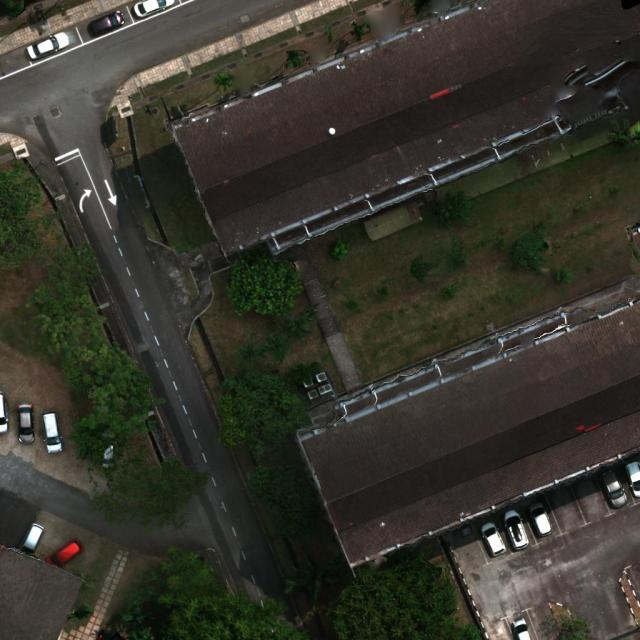Tree: (118, 544, 313, 640), (326, 546, 485, 640), (68, 432, 211, 533), (60, 341, 166, 438), (216, 369, 313, 459), (0, 160, 64, 270), (245, 459, 318, 543), (26, 283, 108, 355), (226, 246, 305, 317), (40, 242, 109, 296), (280, 565, 346, 607), (541, 603, 595, 640), (508, 231, 551, 273), (434, 190, 478, 230), (610, 117, 640, 149), (259, 334, 290, 364), (407, 254, 438, 283), (288, 361, 323, 385), (283, 314, 313, 342), (238, 342, 266, 369), (449, 235, 469, 268), (328, 238, 354, 261), (283, 50, 308, 70), (212, 72, 235, 93), (441, 281, 463, 300), (351, 21, 370, 41), (554, 266, 574, 284), (4, 0, 25, 17)
